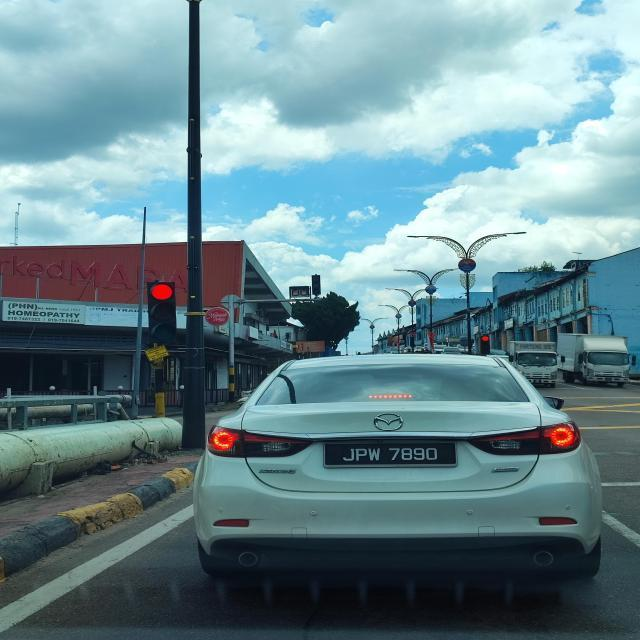red_light: (146, 282, 176, 344), (481, 336, 490, 354)
